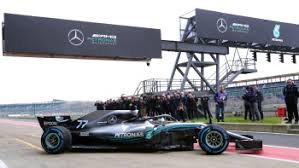FormulaOneCar: (29, 104, 265, 159)
